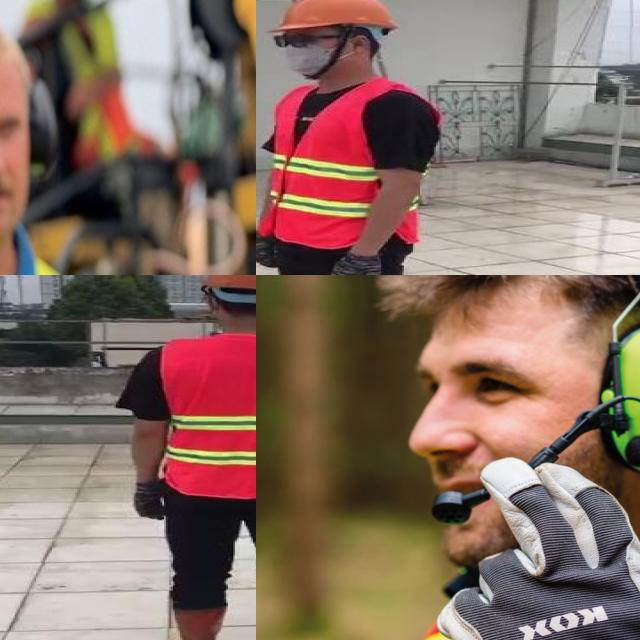Ear-protection: (386, 275, 640, 563), (0, 0, 69, 260)
No_Glasses: (0, 94, 27, 155)
boots: (162, 604, 228, 640)
face_mask: (269, 30, 342, 76)
glasses: (266, 30, 336, 51)
hand_glove: (122, 485, 170, 522), (329, 254, 384, 275)
head_helmet: (273, 0, 401, 34), (193, 275, 256, 294)
person: (256, 0, 453, 275), (113, 275, 256, 640)
vest: (260, 83, 429, 245), (166, 339, 256, 495)
